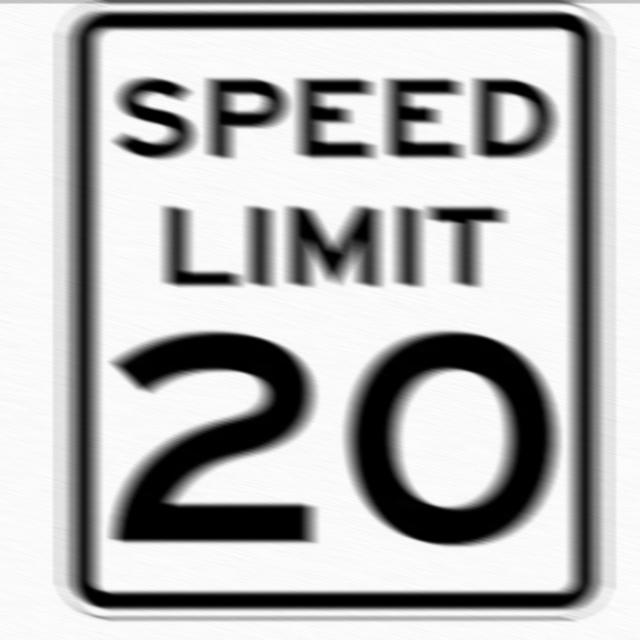speedLimit20: (76, 18, 586, 602)
